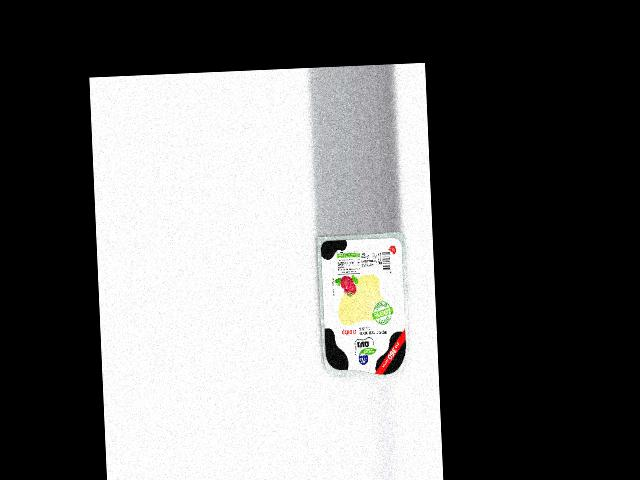cheese: (316, 232, 410, 382)
